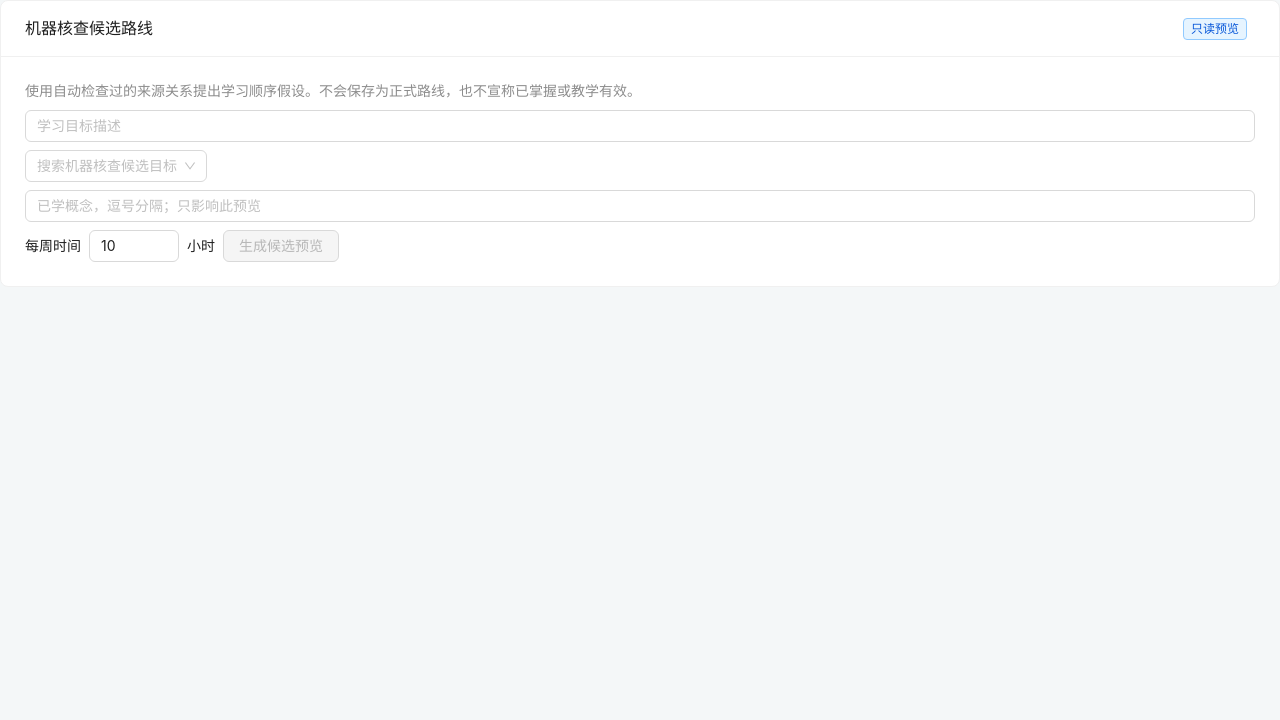
machine checked route remains a read-only preview
Step 1. Type "Learn Target" into the field named "候选路线目标描述" → (640, 126), box top-left (25, 110), bottom-right (1255, 142)
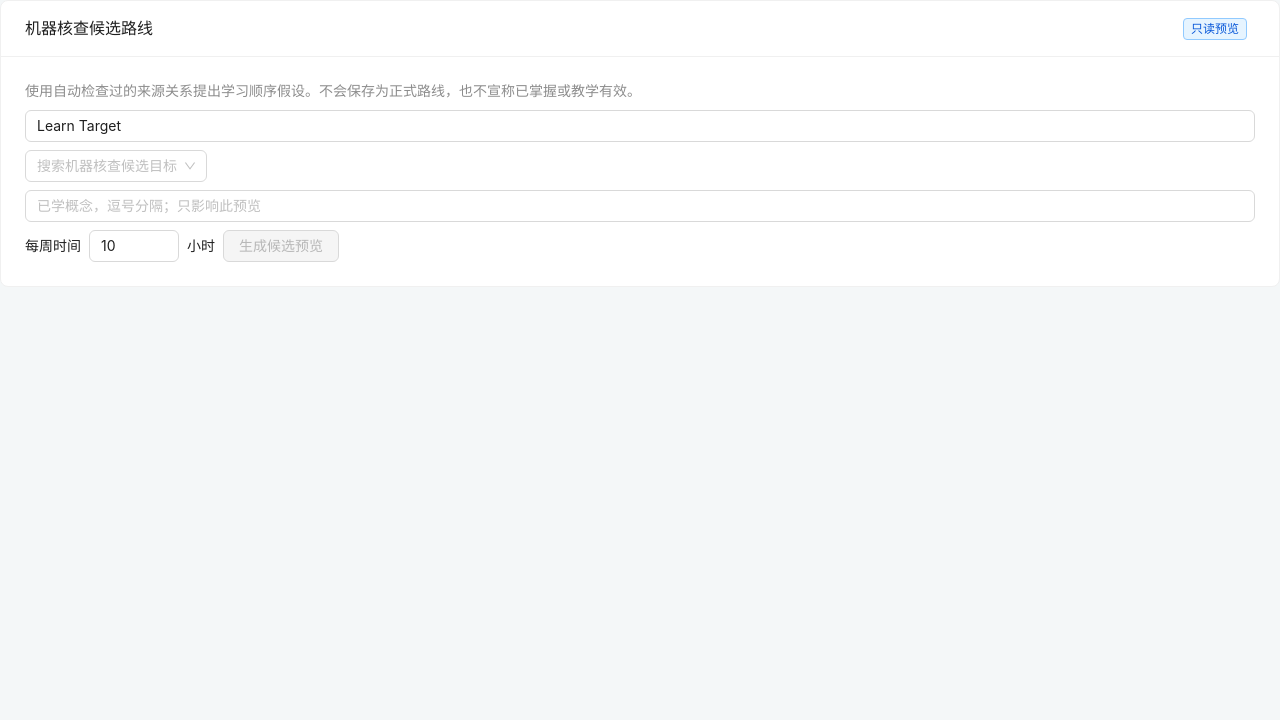
Step 2. Press the mouse on the dropdown named "机器核查目标实体" → (107, 166), box top-left (37, 151), bottom-right (177, 181)
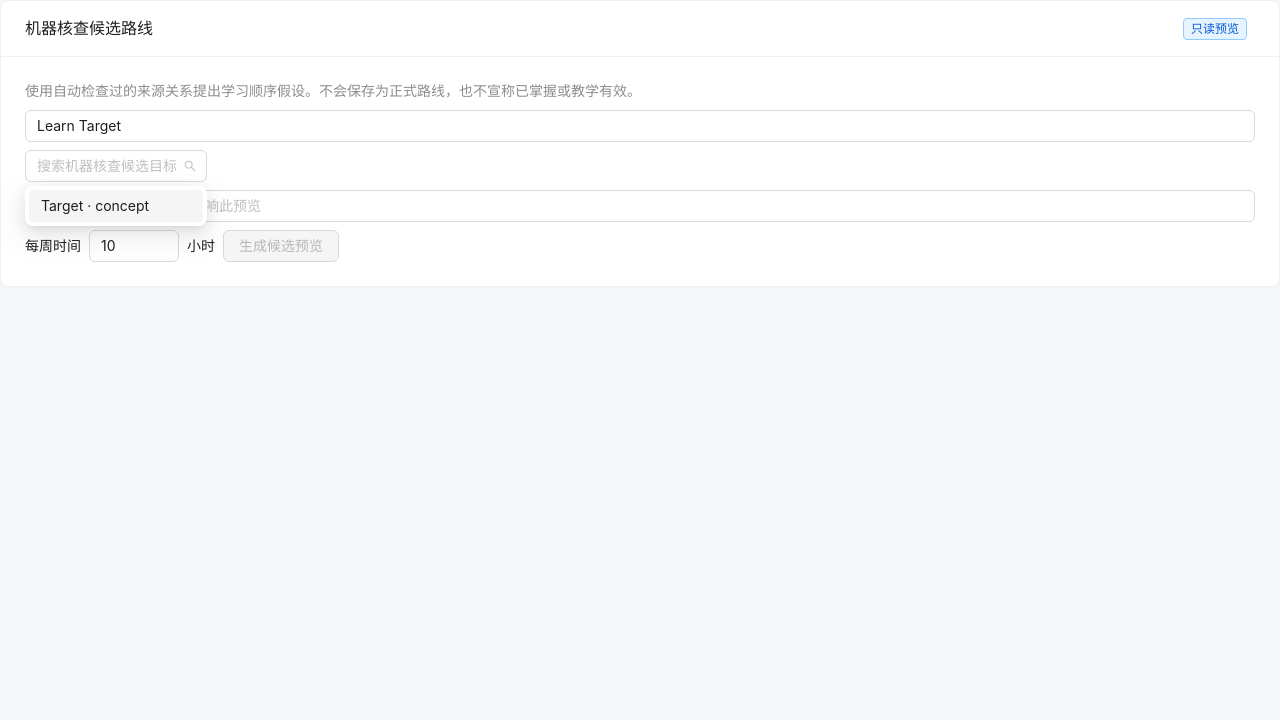
Step 3. Click the text "Target · concept" → (95, 206), box top-left (41, 197), bottom-right (149, 214)
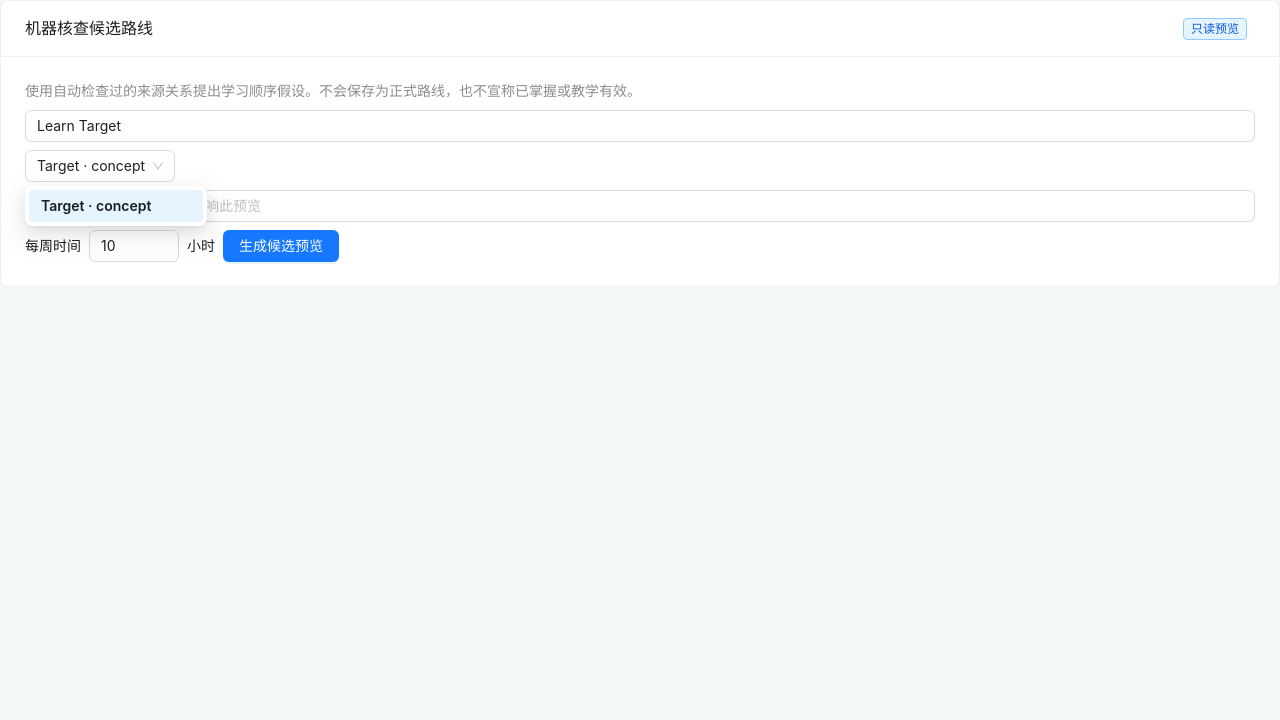
Step 4. Click the button "生成候选预览" → (281, 246), box top-left (223, 230), bottom-right (339, 262)
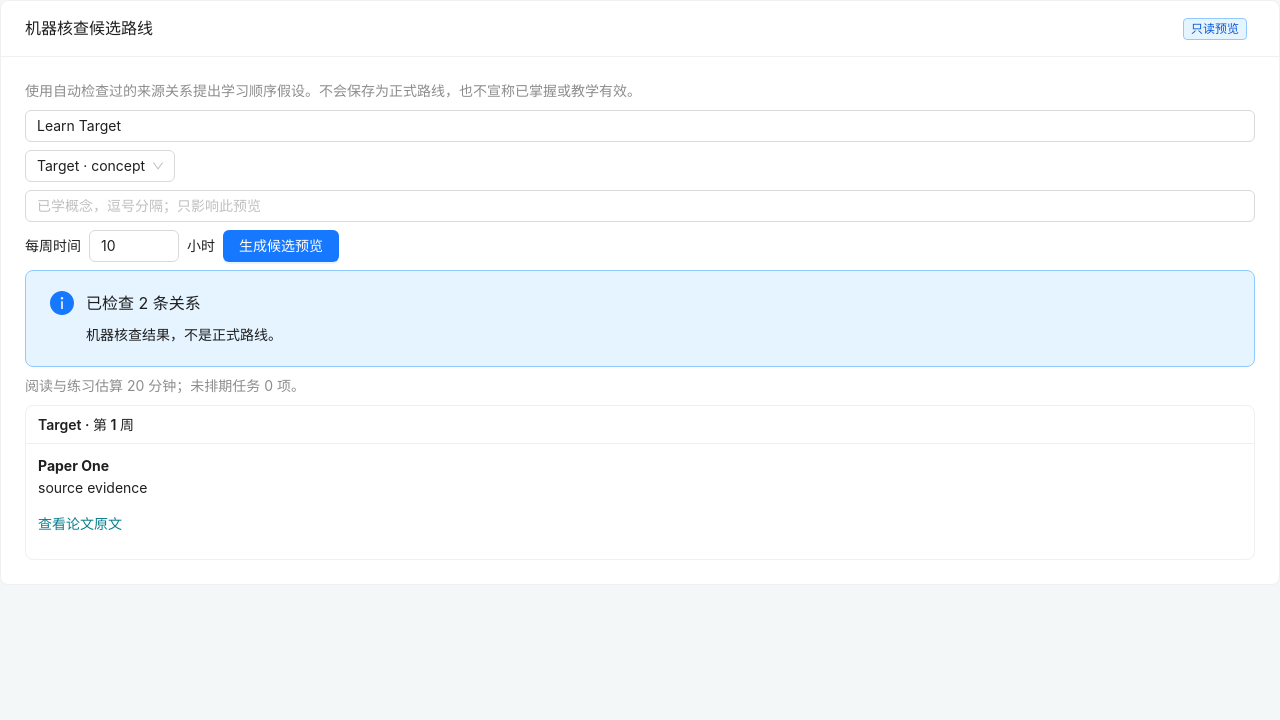
Expected: the text "Paper One" is shown, top-left (38, 457), bottom-right (109, 474)
Expected: the text "机器核查结果，不是正式路线。" is shown, top-left (86, 326), bottom-right (282, 343)
